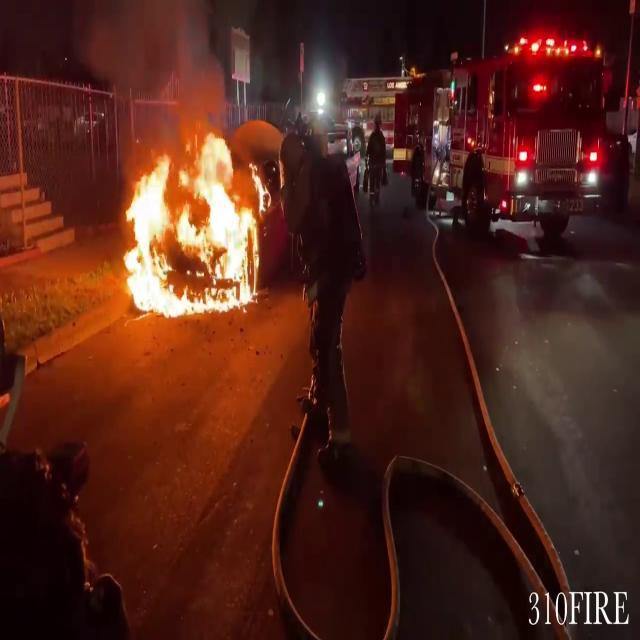Fire: (112, 115, 264, 321)
Smoke: (76, 0, 234, 144)
